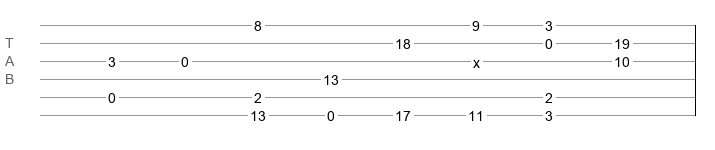0: (108, 90, 116, 100), (181, 54, 189, 64), (327, 108, 335, 118), (545, 36, 553, 46)
10: (614, 54, 630, 64)
11: (468, 108, 484, 118)
13: (250, 108, 266, 118), (323, 72, 339, 82)
17: (395, 108, 411, 118)
18: (395, 36, 411, 46)
19: (614, 36, 630, 46)
2: (254, 90, 262, 100), (545, 90, 553, 100)
3: (108, 54, 116, 64), (545, 108, 553, 118), (545, 18, 553, 28)
8: (254, 18, 262, 28)
9: (472, 18, 480, 28)
x: (473, 55, 480, 63)
